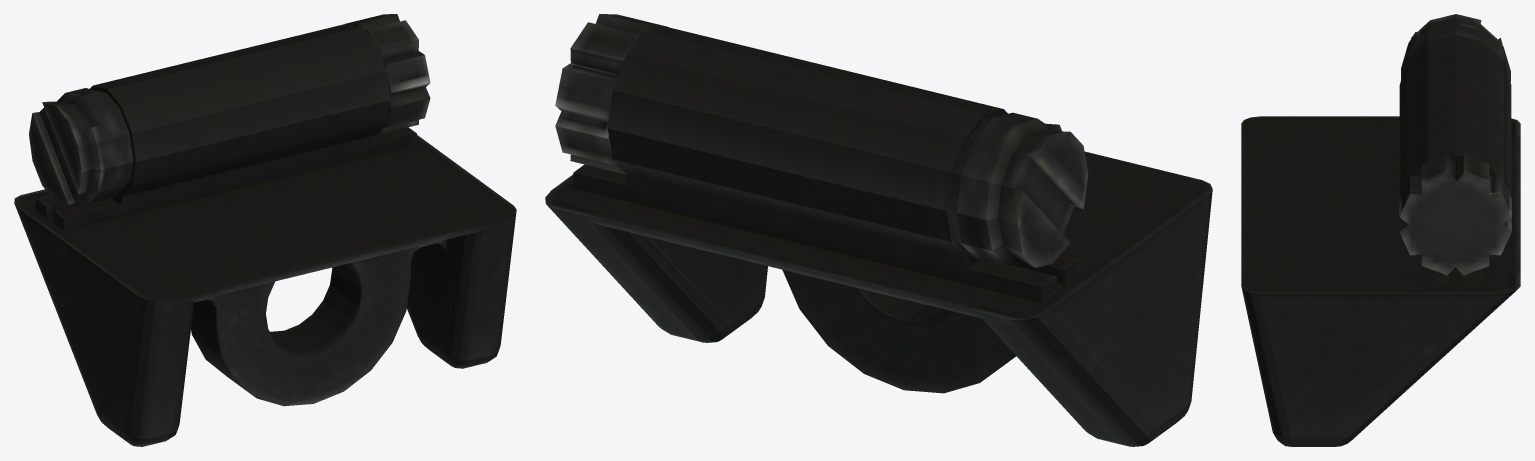
3 views of the same model, side by side, from view 1: azimuth 30°, elevation 25°; view 2: azimuth 150°, elevation 25°; view 3: azimuth 270°, elevation 25° (orthographic). The views are drawn at different scales.
Visible parts, largest first — view 1: TW_5de8fb539f98ac2bc659513a_PZ_Import; view 2: TW_5de8fb539f98ac2bc659513a_PZ_Import; view 3: TW_5de8fb539f98ac2bc659513a_PZ_Import.
Part boxes in pixels (x1=…): TW_5de8fb539f98ac2bc659513a_PZ_Import: x1=14, y1=14, x2=516, y2=446; TW_5de8fb539f98ac2bc659513a_PZ_Import: x1=545, y1=14, x2=1212, y2=446; TW_5de8fb539f98ac2bc659513a_PZ_Import: x1=1241, y1=14, x2=1520, y2=446.
Bounding box in the file's own units: 0.0106 × 0.00703 × 0.00759.
1 material, 1 textured.
